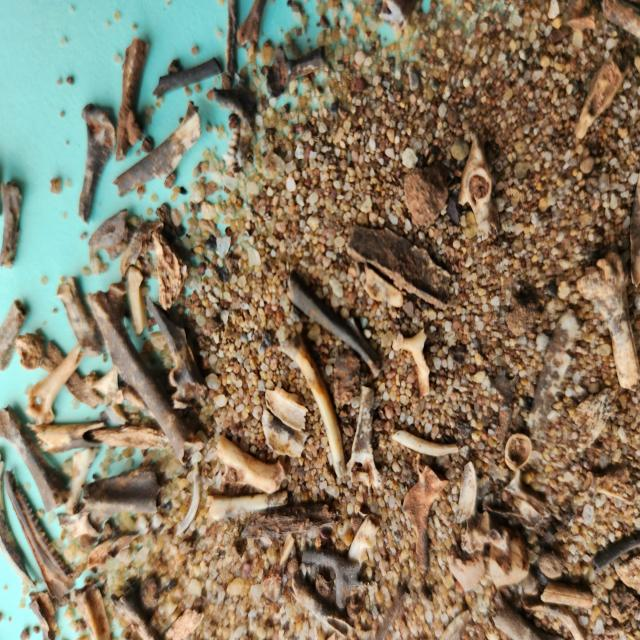fossil: (84, 287, 198, 465), (4, 464, 92, 604), (284, 265, 388, 381), (274, 322, 346, 487), (565, 246, 640, 397), (342, 218, 458, 314), (108, 104, 210, 200), (0, 399, 76, 513), (144, 294, 212, 409), (525, 310, 586, 432), (470, 456, 556, 538), (404, 450, 453, 582), (452, 131, 506, 247), (0, 443, 42, 592), (203, 64, 260, 172), (37, 333, 110, 417), (20, 344, 84, 433), (74, 96, 117, 228), (112, 36, 155, 166), (259, 32, 332, 108), (81, 459, 169, 519), (210, 430, 291, 493), (343, 380, 386, 493), (572, 53, 624, 146), (81, 411, 188, 456), (51, 271, 103, 357), (288, 575, 355, 640), (22, 405, 104, 458), (149, 218, 197, 306), (242, 494, 346, 533), (302, 552, 374, 607), (401, 155, 452, 232), (151, 51, 225, 104), (0, 173, 38, 274), (201, 484, 286, 529), (389, 322, 437, 401), (78, 526, 148, 576), (353, 257, 408, 320), (62, 438, 105, 518), (170, 446, 205, 542), (574, 384, 620, 456), (517, 597, 594, 640), (69, 582, 126, 640), (255, 530, 300, 602), (388, 422, 470, 460), (117, 218, 166, 281), (53, 494, 106, 551), (83, 206, 130, 270), (256, 408, 310, 463), (456, 510, 514, 561), (110, 590, 168, 640), (259, 383, 311, 437), (0, 294, 34, 376), (579, 462, 639, 508), (25, 586, 76, 640), (372, 577, 415, 640), (488, 603, 561, 640), (591, 522, 640, 572), (450, 452, 483, 526), (538, 578, 600, 616), (234, 0, 276, 53), (497, 426, 540, 476), (12, 319, 49, 377), (352, 506, 386, 566), (501, 290, 543, 338), (597, 0, 640, 44), (626, 166, 640, 294), (88, 362, 128, 405), (431, 606, 477, 640), (222, 0, 241, 82), (120, 386, 164, 421), (127, 264, 145, 334), (539, 548, 568, 582)
